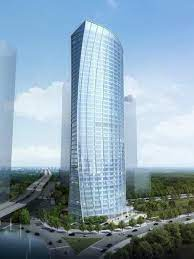Sky Building: (60, 23, 130, 221)
